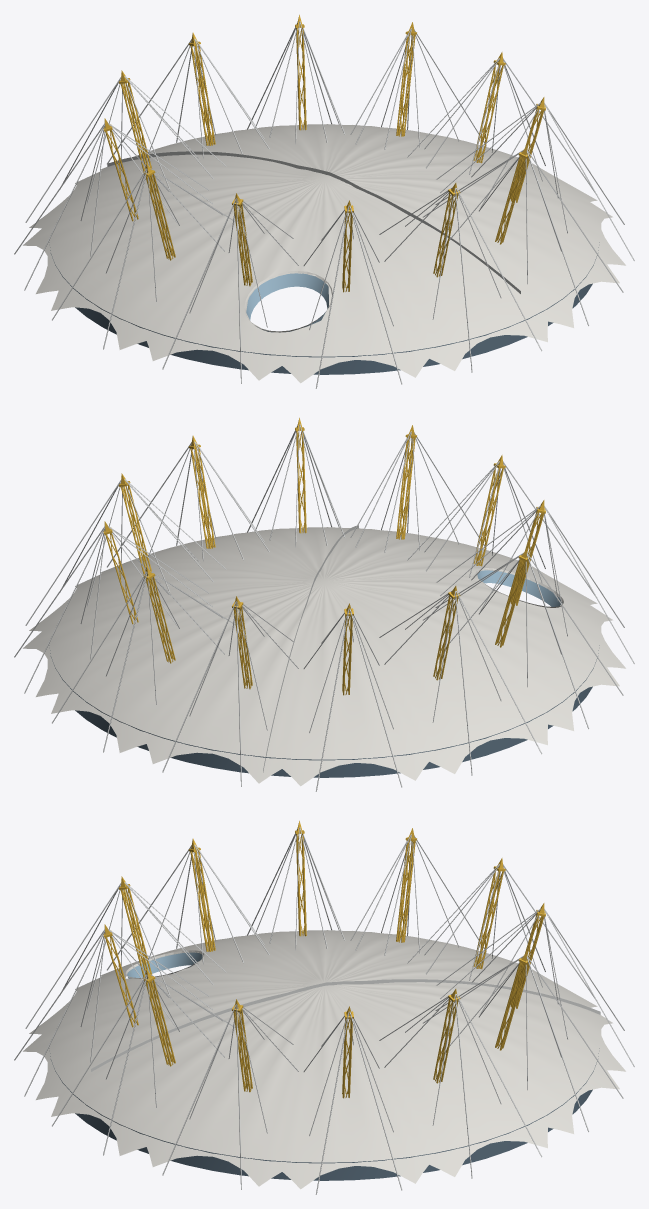
File: london-the-o2.glb
3 renders of one model, top to bottom at view 1: azimuth 30°, elevation 25°; view 2: azimuth 150°, elevation 25°; view 3: azimuth 270°, elevation 25°, orthographic.
Parts seen in each view (by area): view 1: The O2; view 2: The O2; view 3: The O2.
Part boxes in pixels (x1,y1,x2,y2): The O2: (14,14,634,388); The O2: (14,417,634,791); The O2: (14,820,634,1194).
Size of the model in its own units: 357 by 96 by 357.
